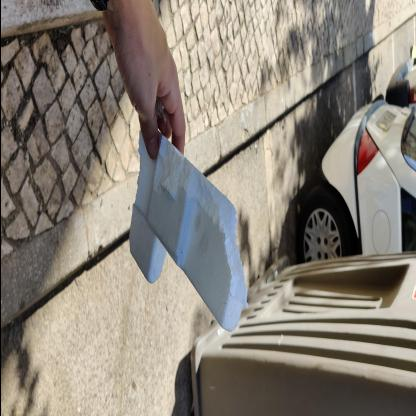kopuk: (126, 127, 248, 338)
